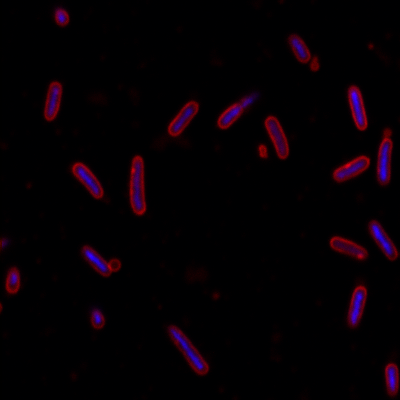Oblique: (163, 322, 211, 378), (213, 90, 264, 127), (286, 30, 313, 64), (3, 263, 26, 295), (89, 302, 107, 329), (54, 7, 71, 28)
Rifampicin: (68, 161, 106, 200), (367, 217, 398, 262), (264, 113, 293, 159), (165, 99, 199, 138), (330, 153, 372, 183), (129, 155, 149, 217), (344, 284, 370, 329), (79, 245, 113, 278), (346, 84, 369, 131), (375, 137, 395, 186), (42, 80, 65, 122), (383, 359, 400, 400)
Vesicle: (256, 142, 269, 159), (210, 287, 223, 301), (367, 41, 378, 49)
